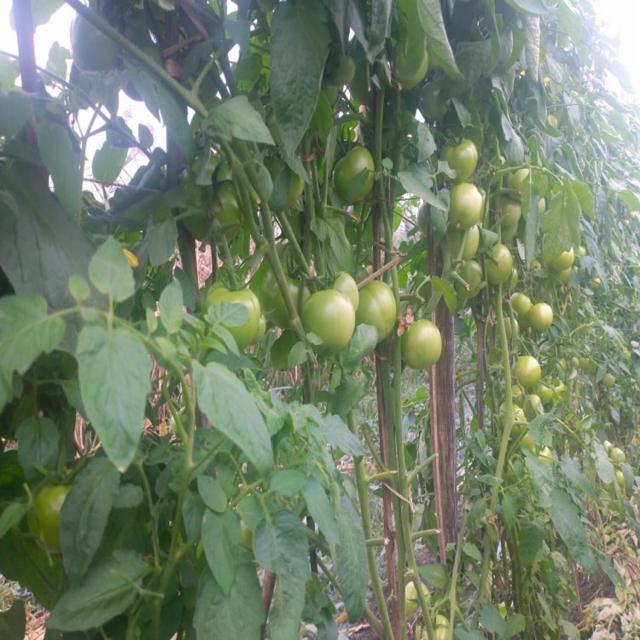tomato: (35, 462, 76, 562), (297, 286, 358, 344), (203, 277, 252, 348), (355, 273, 395, 344), (399, 320, 444, 374), (337, 147, 378, 201), (441, 134, 488, 180), (314, 271, 360, 315), (448, 182, 485, 235), (440, 260, 483, 301), (398, 576, 435, 619), (446, 225, 480, 271), (492, 243, 521, 289), (512, 354, 547, 390), (532, 300, 561, 339), (506, 286, 531, 322), (502, 198, 526, 229), (606, 439, 628, 471), (552, 242, 577, 268), (551, 265, 583, 285), (512, 165, 537, 190), (503, 400, 523, 429), (574, 238, 594, 262)
